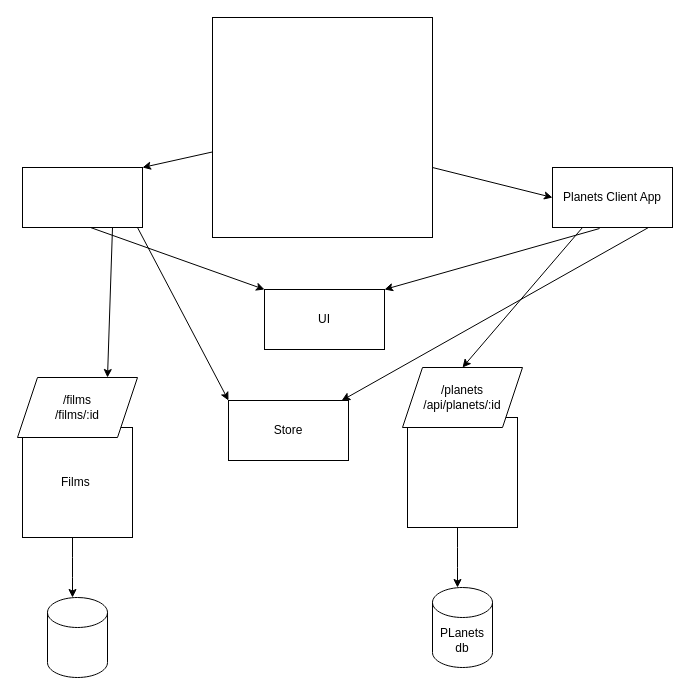
Image size: 690x695. Some labels were removed from this diagram. Here are the shapes that lost their labels. From the top down, the box of each, then its label:
(212, 16, 432, 238): Shell / Host App /films /planets
(22, 166, 142, 228): Films Client App
(406, 416, 518, 528): Planets
(46, 596, 108, 678): Films db
